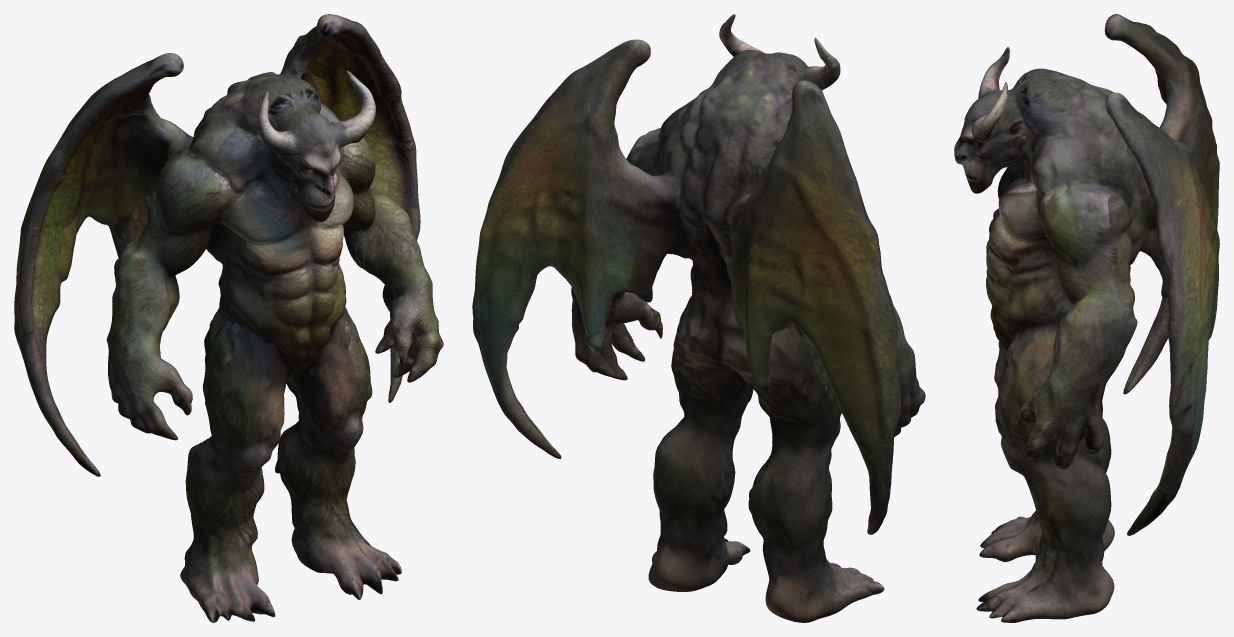
The model's file is Create_a_hyper_realis_0208174531_texture.fbx.
The picture shows the model from 3 angles, left to right: view 1: azimuth 30°, elevation 25°; view 2: azimuth 150°, elevation 25°; view 3: azimuth 270°, elevation 25°; orthographic projection. The views are drawn at different scales.
Parts seen in each view (by area): view 1: Mesh1_Mesh1.008; view 2: Mesh1_Mesh1.008; view 3: Mesh1_Mesh1.008.
Part boxes in pixels (x1=…): Mesh1_Mesh1.008: x1=14, y1=14, x2=443, y2=622; Mesh1_Mesh1.008: x1=472, y1=14, x2=925, y2=622; Mesh1_Mesh1.008: x1=954, y1=14, x2=1219, y2=622.
Bounding box in the file's own units: 158 × 200 × 91.06.
1 material, 1 textured.
